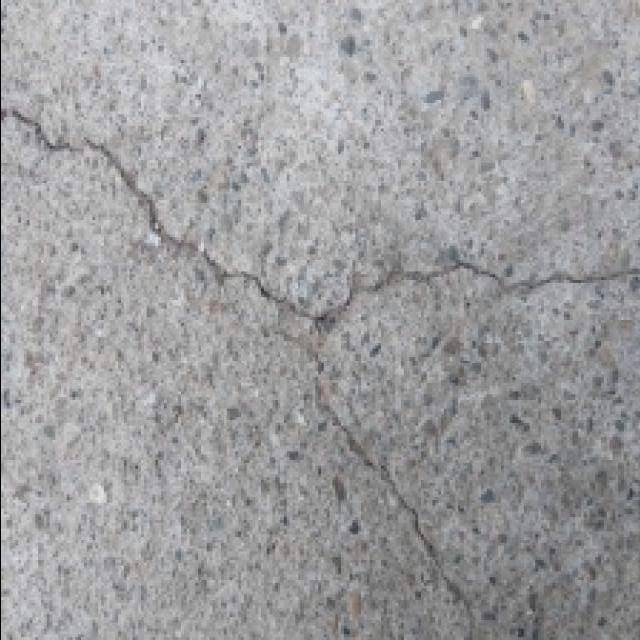SurfaceCrack: (0, 96, 506, 640), (290, 242, 640, 364)
